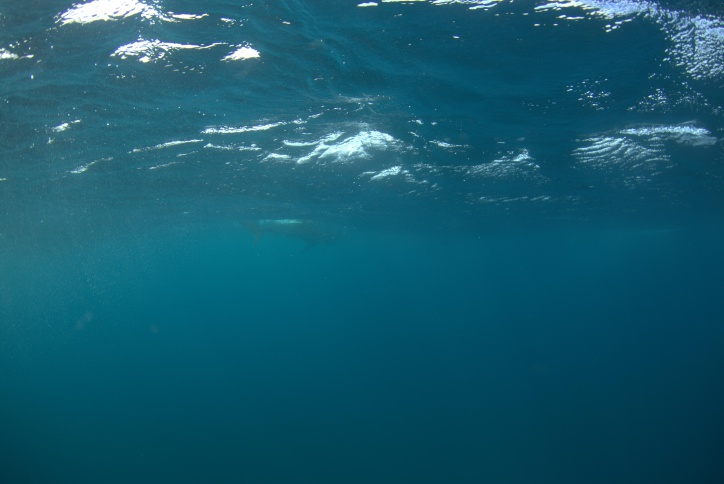Hammer: (232, 200, 366, 270)
